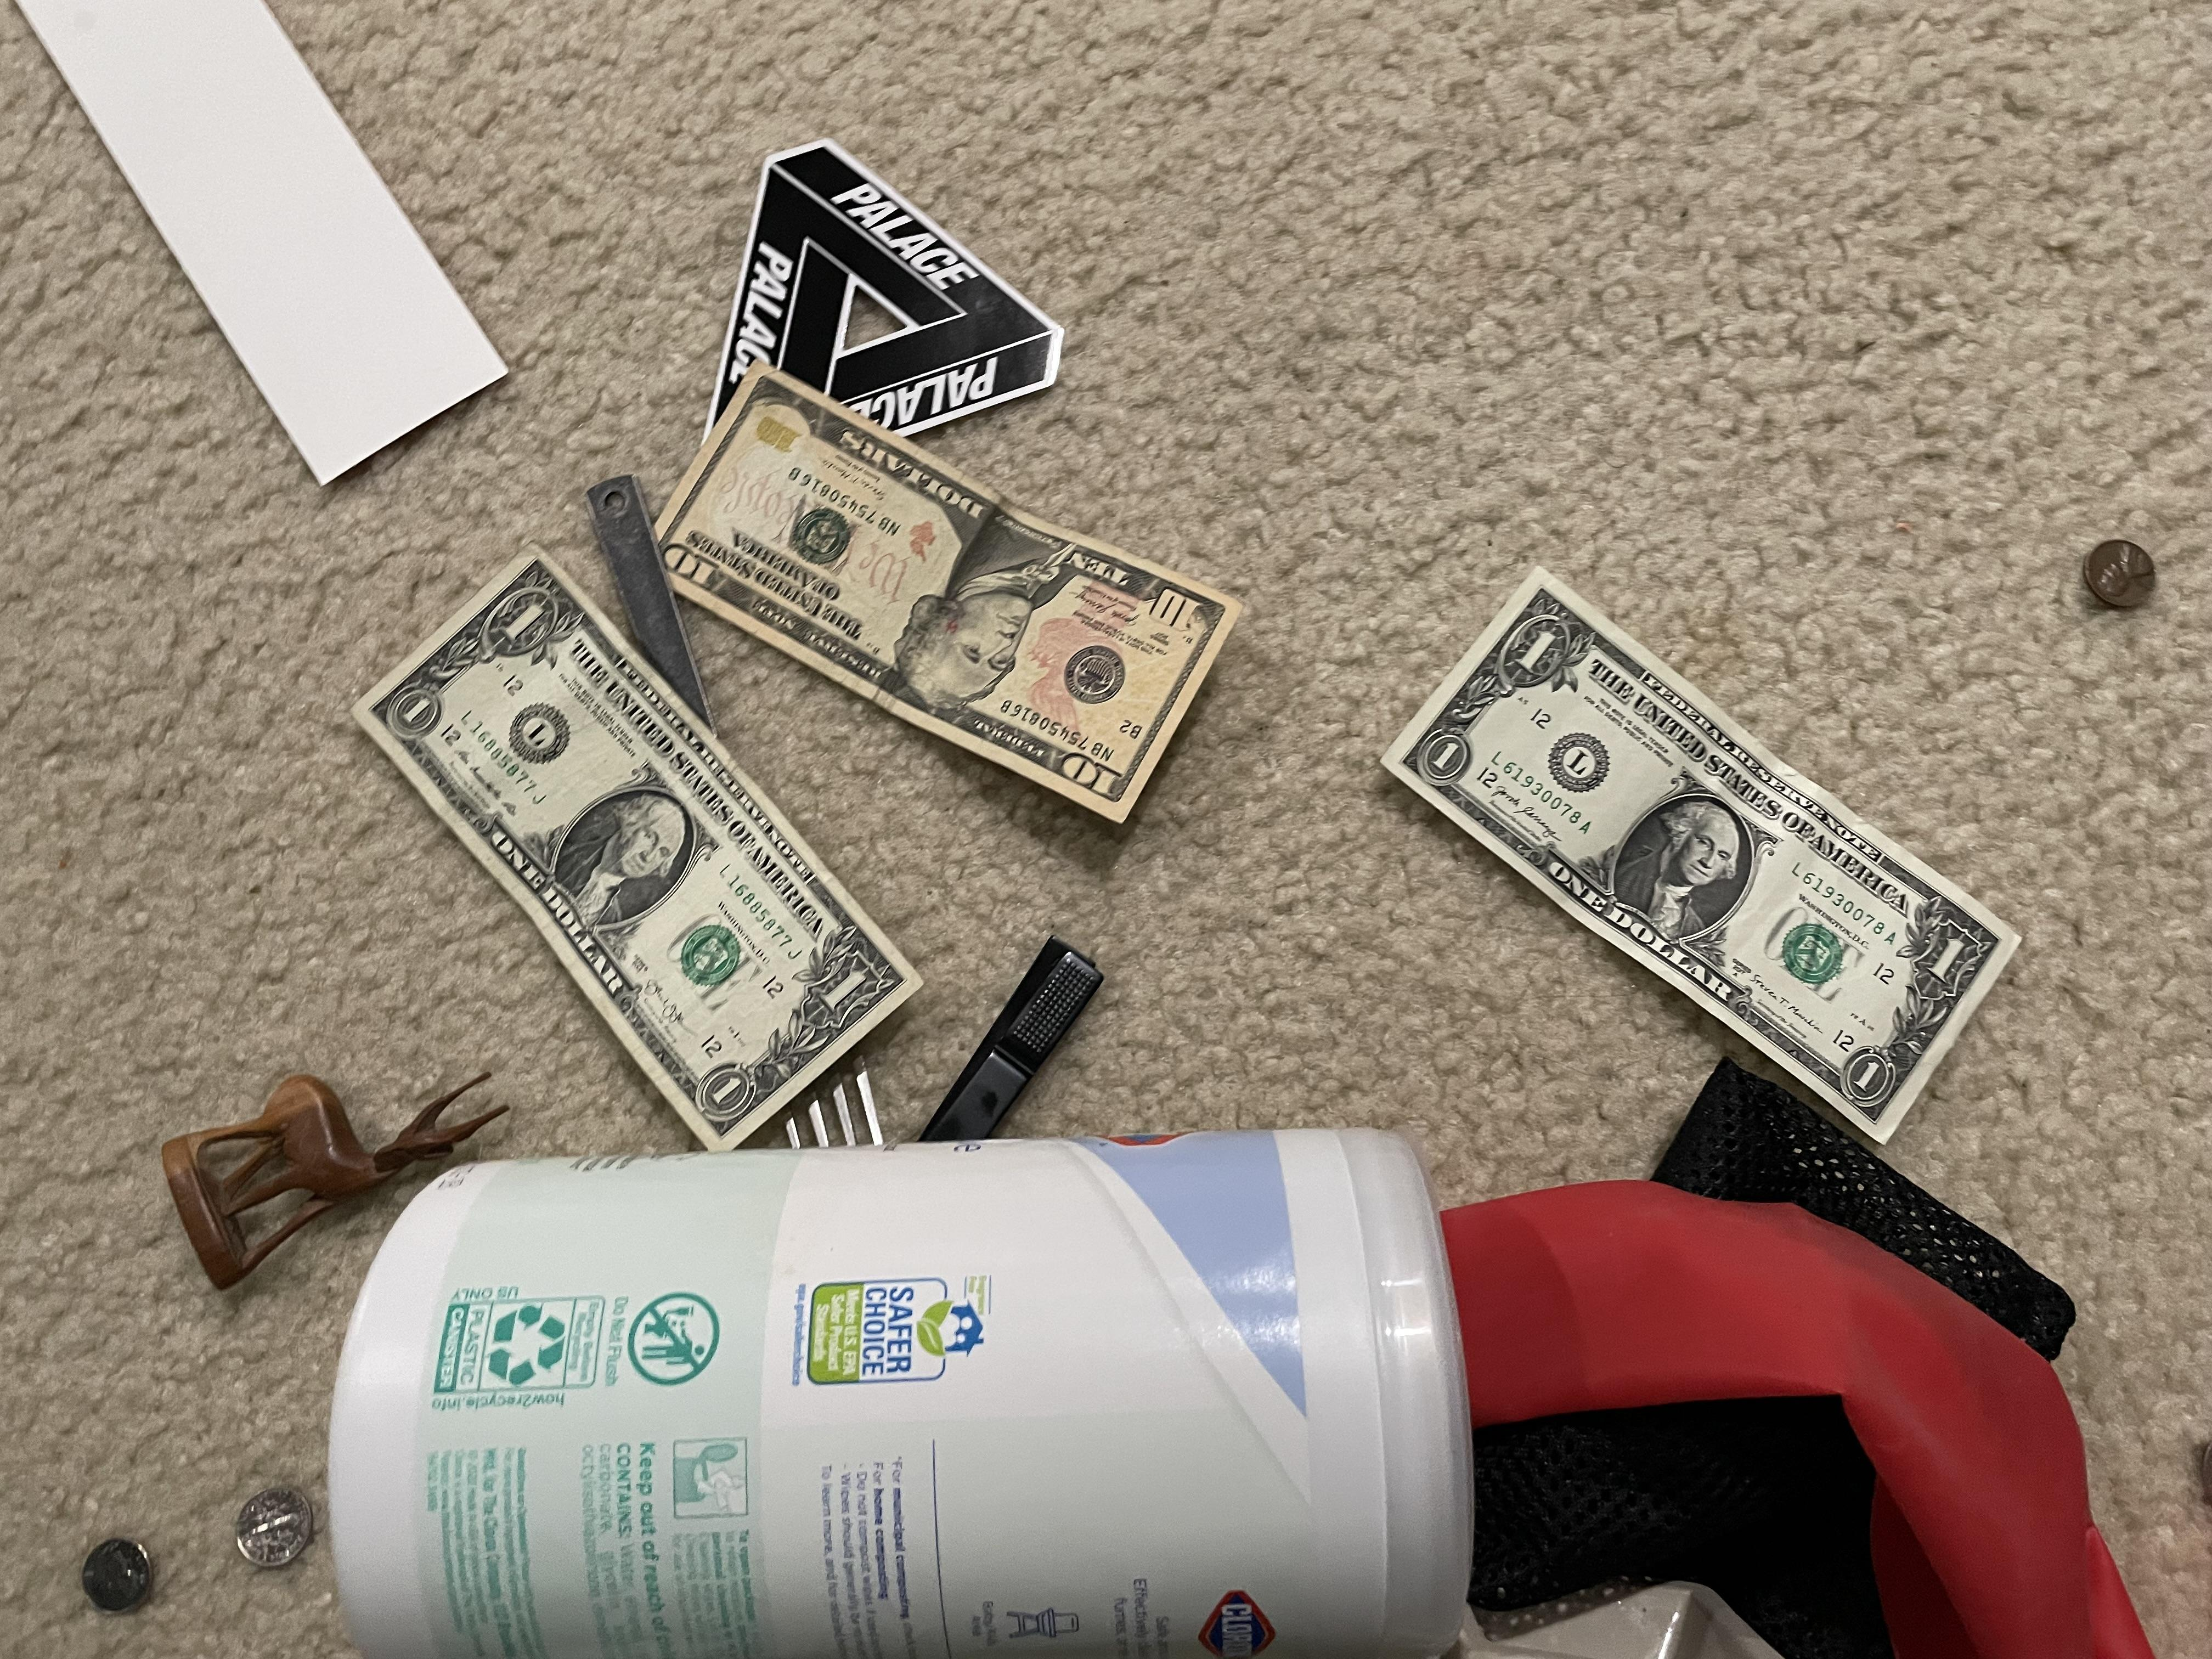Dime: (223, 1483, 317, 1574), (82, 1539, 157, 1610)
OneBill: (1383, 566, 2029, 1154), (343, 545, 918, 1140)
Penny: (2081, 537, 2177, 627)
TenBill: (637, 368, 1245, 840)
